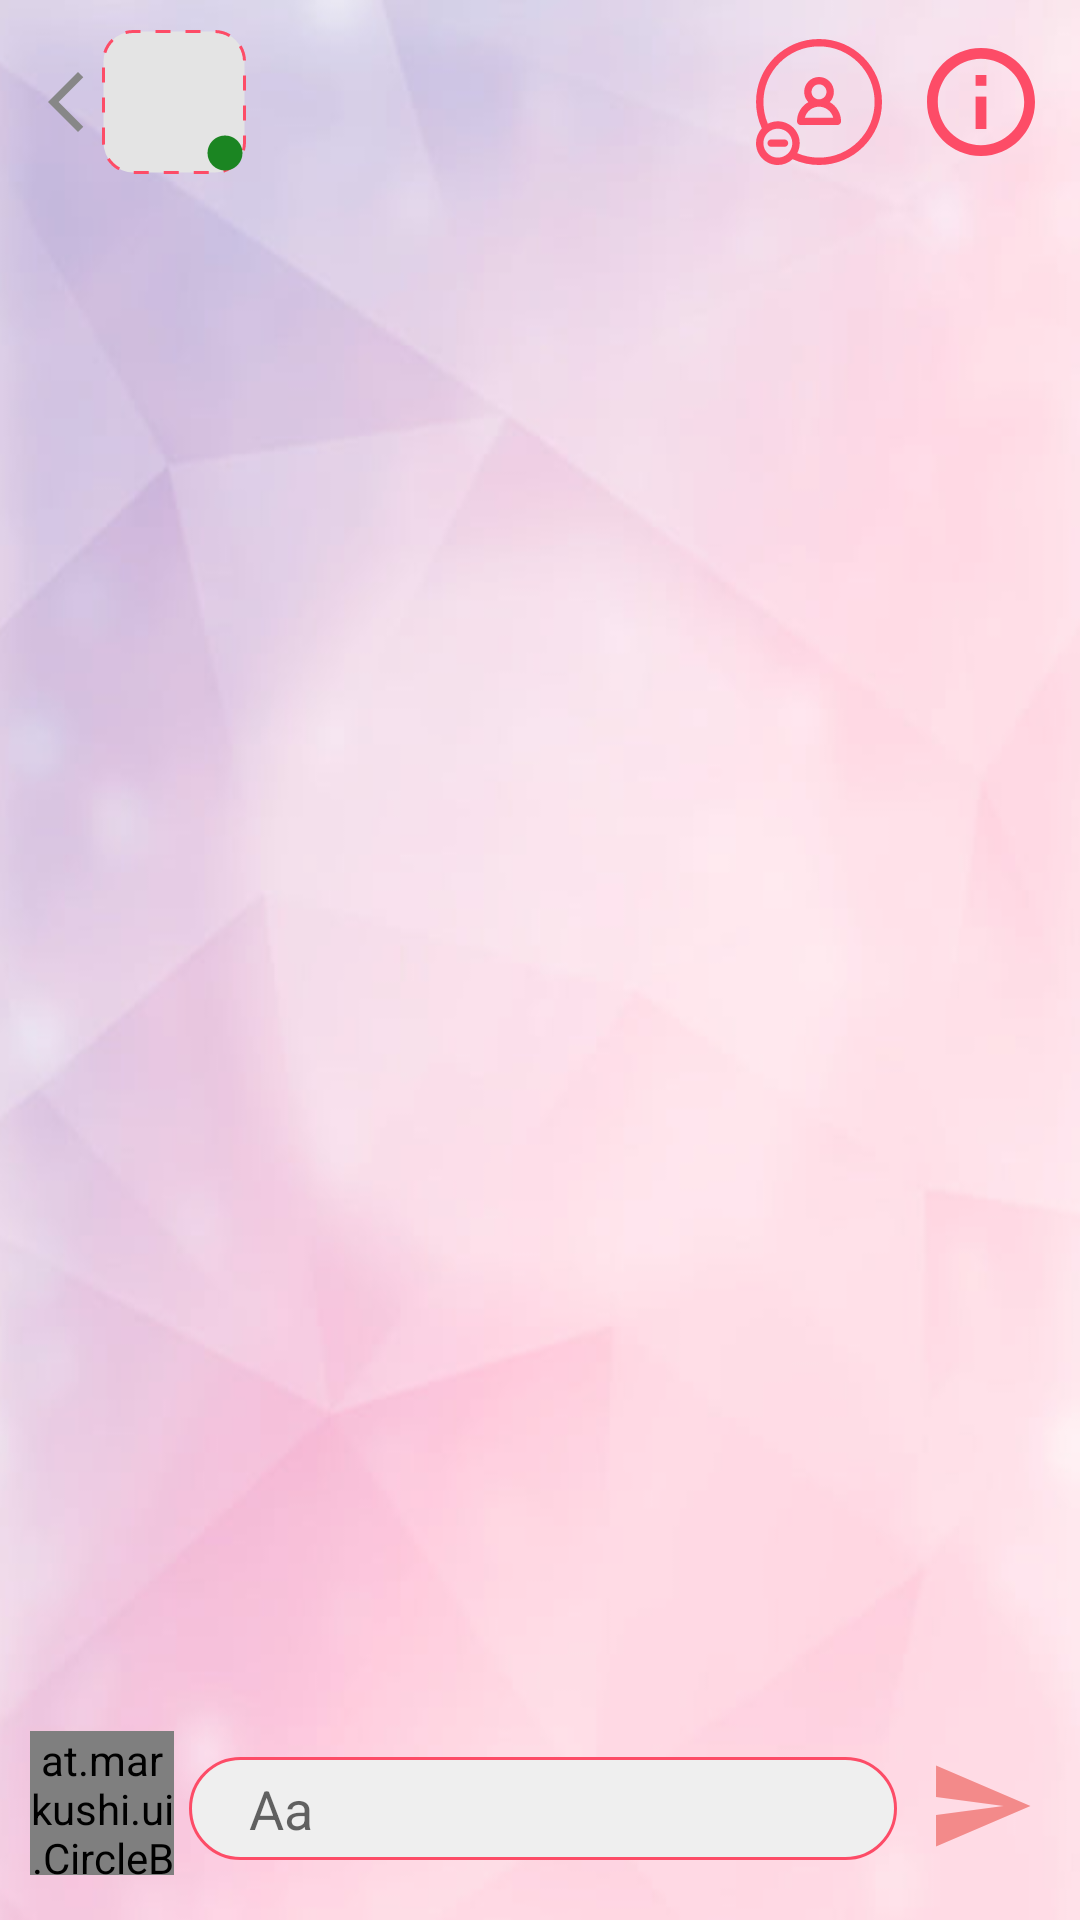

Where to tap for icons on this 1080*1920 app screen, as [x,y]:
back: [65,102]
info: [981,102]
send: [983,1806]
unmatched: [819,102]
